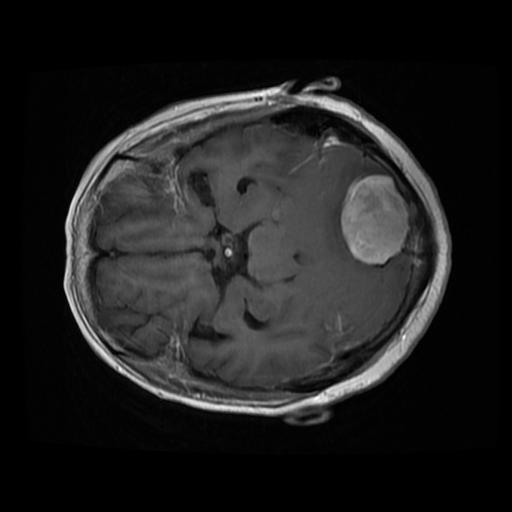meningioma: (339, 174, 408, 265)
